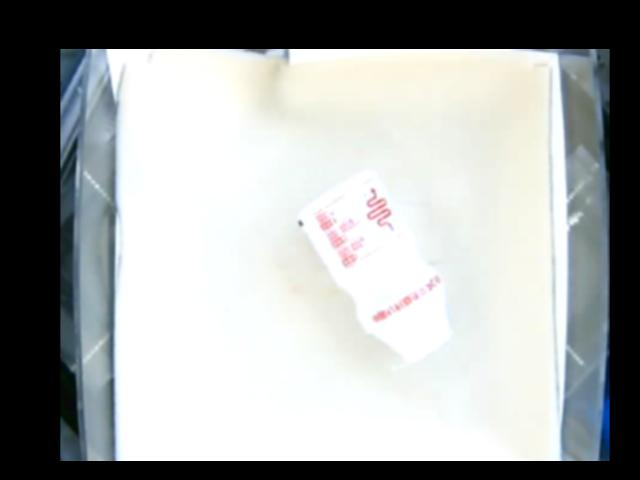Bottle: (298, 169, 450, 360)
